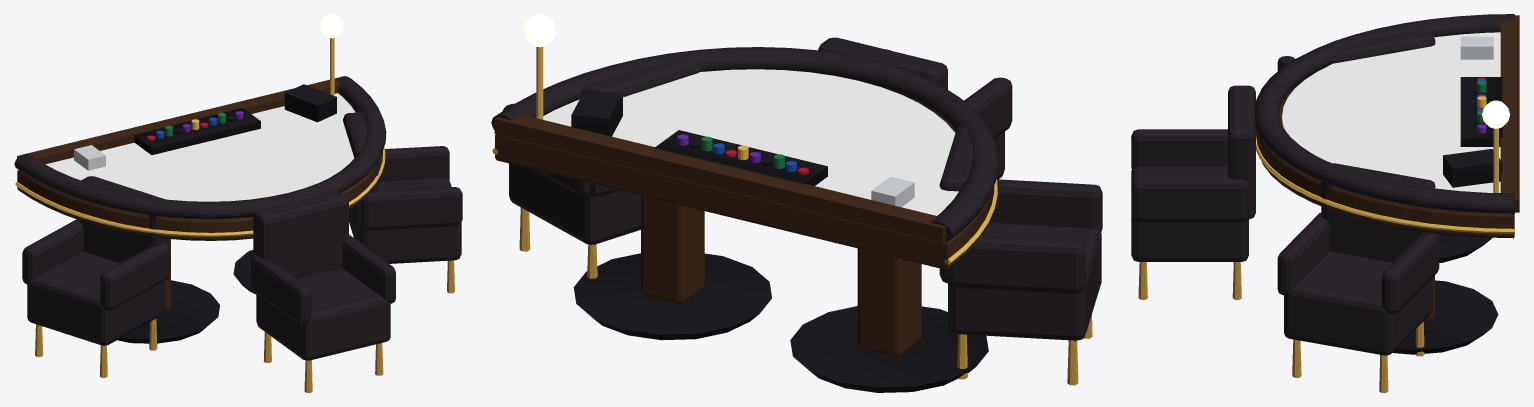
File: table-blackjack-hl.glb
3 views of the same model, side by side, from view 1: azimuth 30°, elevation 25°; view 2: azimuth 150°, elevation 25°; view 3: azimuth 270°, elevation 25° (orthographic). The views are drawn at different scales.
Parts seen in each view (by area): view 1: table-blackjack-hl_lod0; view 2: table-blackjack-hl_lod0; view 3: table-blackjack-hl_lod0.
Boxes of the visible parts, left/top/right/bottom form: table-blackjack-hl_lod0: left=14, top=14, right=462, bottom=392; table-blackjack-hl_lod0: left=491, top=14, right=1102, bottom=392; table-blackjack-hl_lod0: left=1131, top=14, right=1519, bottom=392.
Size of what is drawn, in the model's own units: 2.41 by 1.2 by 1.65.
